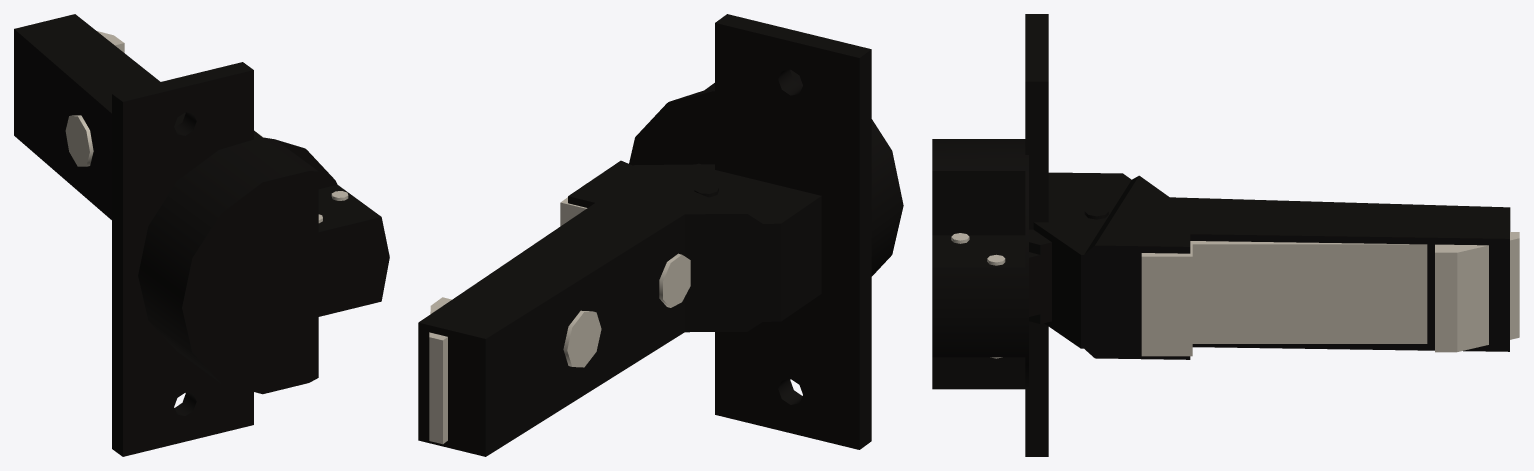
3 renders of one model, left to right at view 1: azimuth 30°, elevation 25°; view 2: azimuth 150°, elevation 25°; view 3: azimuth 270°, elevation 25°, orthographic. The views are drawn at different scales.
Visible parts, largest first — view 1: bau0015166285-1, bau0016879137-2; view 2: bau0016879137-2, bau0015166285-1, bau0019426112-1; view 3: bau0016879137-2, bau0019426112-1, bau0015166285-1, bau0015167363-1.
Boxes of the visible parts, box(x1,y1,x2,y2) form: bau0015166285-1: box(112, 62, 389, 456); bau0016879137-2: box(14, 14, 262, 219); bau0016879137-2: box(418, 160, 821, 456); bau0015166285-1: box(629, 14, 903, 449); bau0019426112-1: box(429, 183, 587, 444); bau0016879137-2: box(1033, 172, 1510, 359); bau0019426112-1: box(1141, 232, 1519, 356); bau0015166285-1: box(932, 14, 1048, 456); bau0015167363-1: box(1029, 229, 1051, 323).
Size of the model in its own units: 37.46 by 57 by 80.8.
